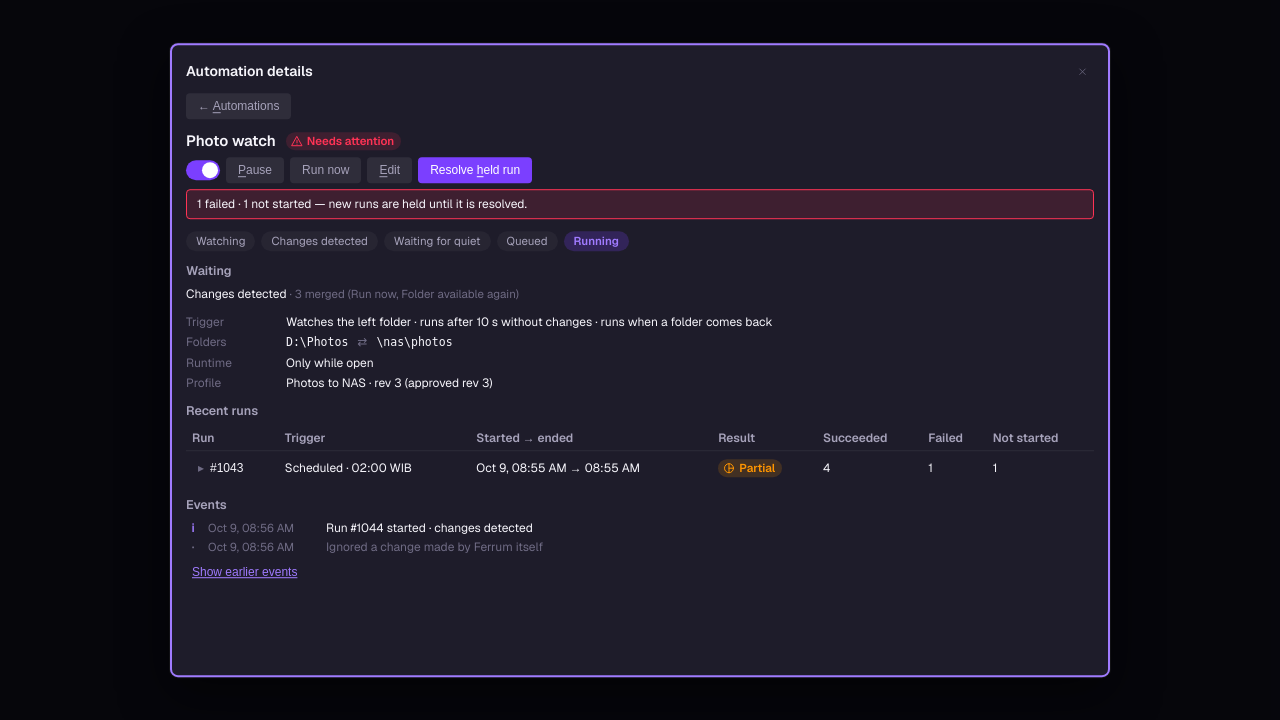
Test: AutomationDetail (MH-5) › Resolve held run expands the held run in the recent runs
Check: the message with test id "attention-hold" shows "1 failed", box [197,196,527,212]
Click the button "Resolve held run": (475, 170) [418,158,532,184]
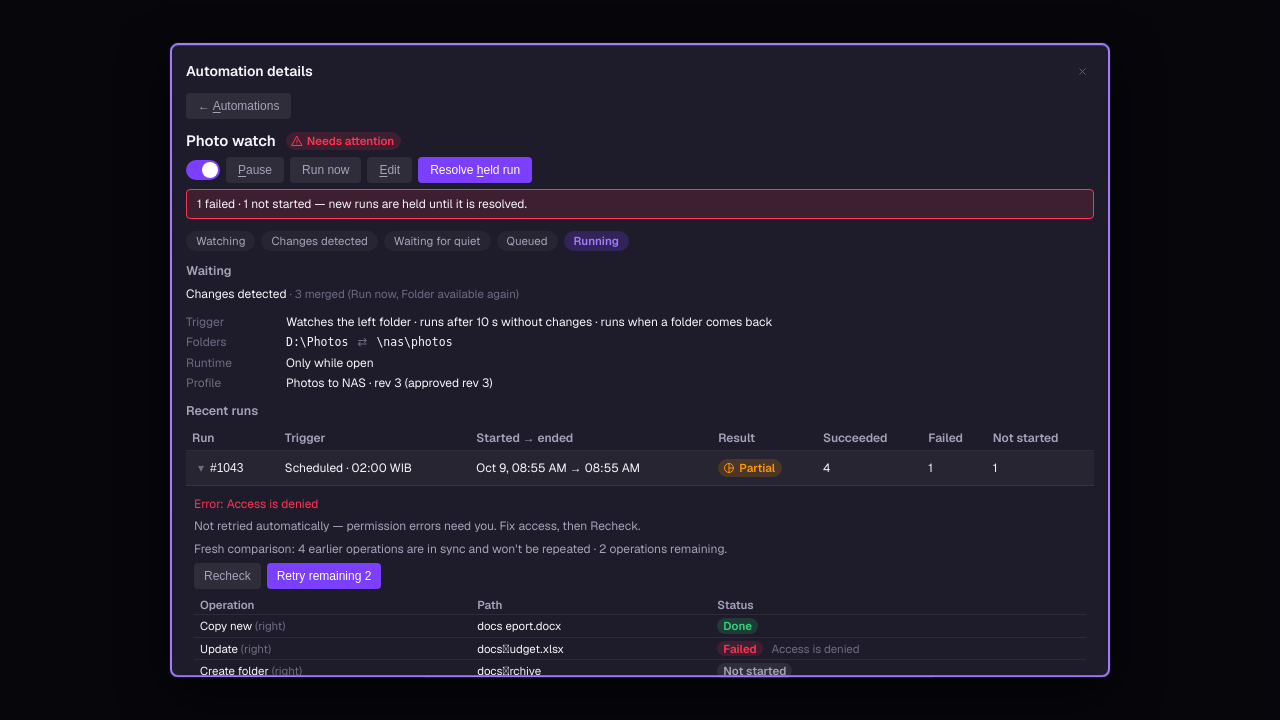
Check: the text "Error: Access is denied" is shown, box [194,496,318,512]
